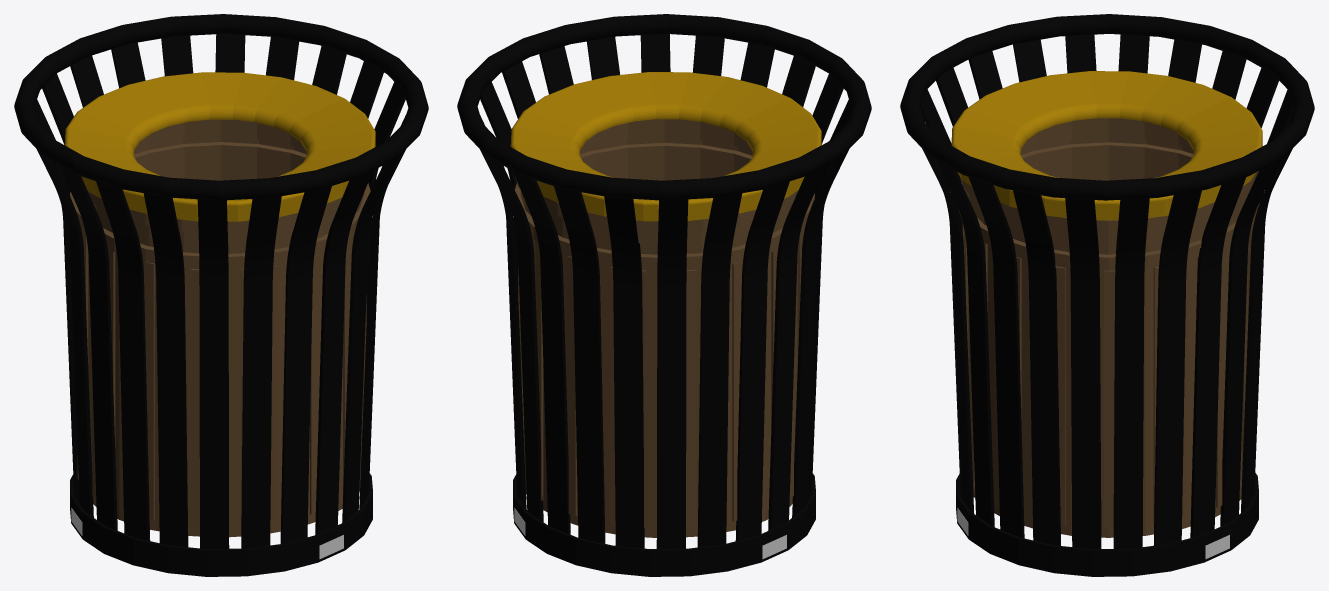
3 renders of one model, left to right at view 1: azimuth 30°, elevation 25°; view 2: azimuth 150°, elevation 25°; view 3: azimuth 270°, elevation 25°, orthographic.
Visible parts, largest first — view 1: mesh131_mesh131-geometry, mesh51_mesh51-geometry, mesh3_mesh3-geometry, mesh20_mesh20-geometry, mesh1_mesh1-geometry, mesh41_mesh41-geometry, mesh43_mesh43-geometry, mesh8_mesh8-geometry, mesh22_mesh22-geometry, mesh39_mesh39-geometry, mesh16_mesh16-geometry, mesh49_mesh49-geometry (+18 smaller); view 2: mesh131_mesh131-geometry, mesh51_mesh51-geometry, mesh3_mesh3-geometry, mesh37_mesh37-geometry, mesh4_mesh4-geometry, mesh35_mesh35-geometry, mesh6_mesh6-geometry, mesh33_mesh33-geometry, mesh22_mesh22-geometry, mesh27_mesh27-geometry, mesh18_mesh18-geometry, mesh31_mesh31-geometry (+19 smaller); view 3: mesh131_mesh131-geometry, mesh51_mesh51-geometry, mesh3_mesh3-geometry, mesh14_mesh14-geometry, mesh45_mesh45-geometry, mesh12_mesh12-geometry, mesh47_mesh47-geometry, mesh29_mesh29-geometry, mesh10_mesh10-geometry, mesh22_mesh22-geometry, mesh49_mesh49-geometry, mesh31_mesh31-geometry (+20 smaller).
Part boxes in pixels (box(x1,y1,x2,y2)): mesh131_mesh131-geometry: box(70, 119, 370, 537); mesh51_mesh51-geometry: box(64, 72, 375, 221); mesh3_mesh3-geometry: box(14, 14, 428, 200); mesh20_mesh20-geometry: box(241, 196, 281, 548); mesh1_mesh1-geometry: box(197, 199, 229, 548); mesh41_mesh41-geometry: box(143, 193, 188, 547); mesh43_mesh43-geometry: box(280, 186, 331, 543); mesh8_mesh8-geometry: box(96, 181, 150, 540); mesh22_mesh22-geometry: box(70, 473, 372, 576); mesh39_mesh39-geometry: box(315, 171, 372, 535); mesh16_mesh16-geometry: box(59, 165, 117, 530); mesh49_mesh49-geometry: box(342, 156, 399, 522); mesh131_mesh131-geometry: box(515, 119, 814, 537); mesh51_mesh51-geometry: box(510, 72, 821, 221); mesh3_mesh3-geometry: box(457, 14, 871, 200); mesh37_mesh37-geometry: box(656, 199, 688, 548); mesh4_mesh4-geometry: box(604, 196, 644, 548); mesh35_mesh35-geometry: box(697, 193, 742, 547); mesh6_mesh6-geometry: box(554, 186, 605, 543); mesh33_mesh33-geometry: box(735, 181, 789, 540); mesh22_mesh22-geometry: box(513, 473, 815, 576); mesh27_mesh27-geometry: box(513, 171, 570, 534); mesh18_mesh18-geometry: box(768, 165, 826, 530); mesh31_mesh31-geometry: box(487, 156, 543, 521); mesh131_mesh131-geometry: box(958, 118, 1259, 537); mesh51_mesh51-geometry: box(951, 71, 1262, 220); mesh3_mesh3-geometry: box(900, 14, 1314, 200); mesh14_mesh14-geometry: box(1113, 198, 1149, 548); mesh45_mesh45-geometry: box(1065, 198, 1101, 548); mesh12_mesh12-geometry: box(1153, 190, 1201, 545); mesh47_mesh47-geometry: box(1013, 190, 1060, 545); mesh29_mesh29-geometry: box(968, 177, 1024, 538); mesh10_mesh10-geometry: box(1190, 177, 1246, 537); mesh22_mesh22-geometry: box(956, 473, 1258, 576); mesh49_mesh49-geometry: box(936, 160, 994, 526); mesh31_mesh31-geometry: box(1220, 160, 1278, 526).
Bounding box in the file's own units: 0.5574 × 0.6153 × 0.5574.
